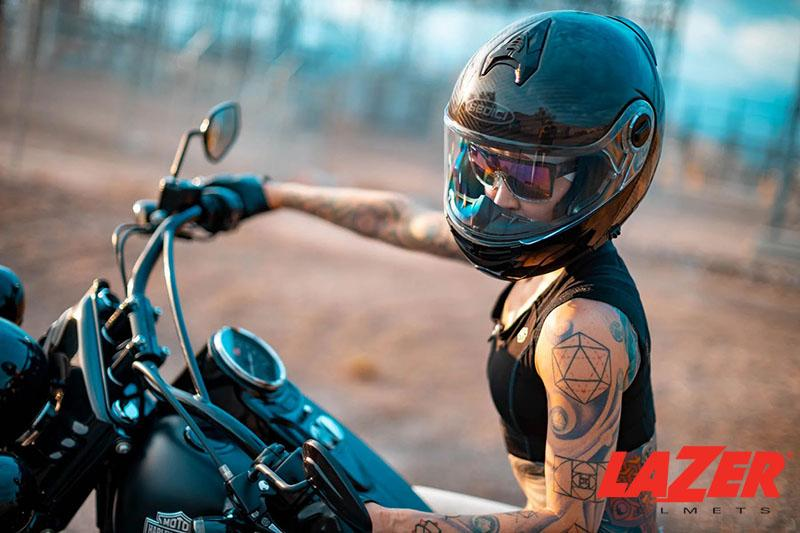Helmet: (445, 12, 664, 280)
